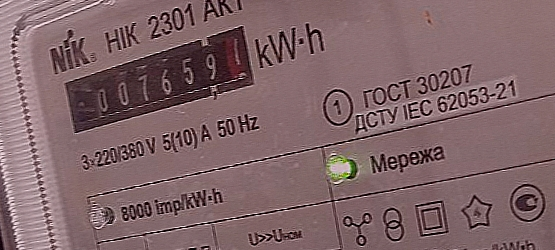0: (94, 84, 111, 113), (115, 79, 131, 108)
1: (228, 36, 244, 69)
5: (178, 55, 197, 89)
6: (157, 65, 174, 98)
7: (135, 70, 153, 104)
9: (201, 49, 221, 84)
screen: (45, 17, 277, 141)
